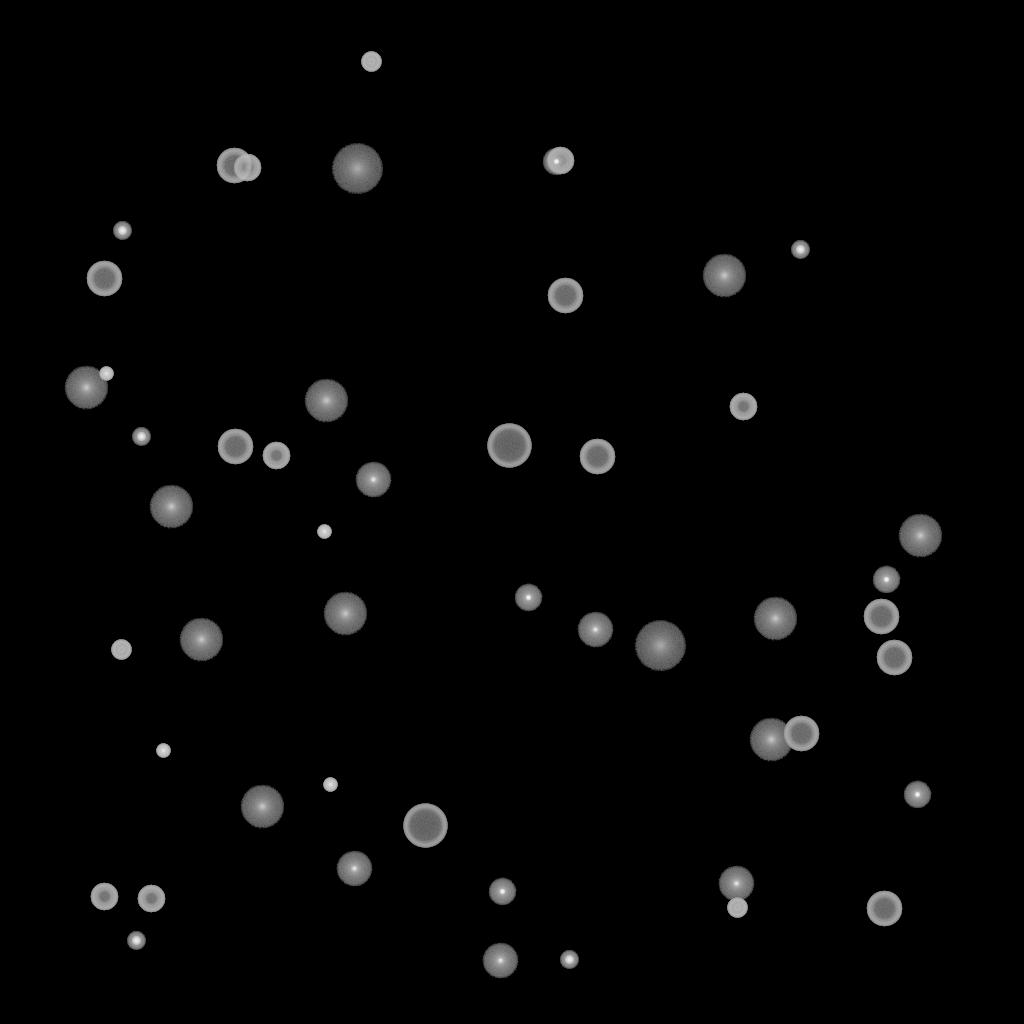depth:-10: (488, 878, 516, 906), (542, 148, 570, 176), (514, 584, 542, 612), (872, 566, 900, 594), (903, 781, 931, 809)
depth:-20: (132, 428, 150, 446), (113, 222, 131, 240), (560, 951, 578, 969), (791, 241, 809, 259), (127, 932, 145, 950)
depth:-30: (156, 744, 170, 758), (323, 778, 337, 792), (99, 367, 113, 381), (317, 525, 331, 539)
depth:-40: (361, 52, 381, 72), (111, 640, 131, 660), (727, 898, 747, 918)
depth:-50: (137, 885, 165, 913), (546, 147, 574, 175), (233, 154, 261, 182), (90, 883, 118, 911), (262, 442, 290, 470), (729, 393, 757, 421)
depth:-60: (866, 891, 902, 927), (863, 599, 899, 635), (876, 640, 912, 676), (86, 261, 122, 297), (547, 278, 583, 314), (579, 439, 615, 475), (783, 716, 819, 752), (216, 148, 252, 184), (217, 429, 253, 465)
depth:-70: (403, 804, 447, 848), (487, 424, 531, 468)
depth:0: (336, 851, 372, 887), (482, 943, 518, 979), (577, 612, 613, 648), (355, 462, 391, 498), (718, 866, 754, 902)
depth:10: (64, 366, 108, 410), (898, 514, 942, 558), (702, 254, 746, 298), (323, 592, 367, 636), (149, 485, 193, 529), (240, 785, 284, 829), (179, 618, 223, 662), (304, 379, 348, 423), (753, 597, 797, 641), (749, 718, 793, 762)
depth:20: (634, 621, 686, 671), (331, 144, 383, 194)
